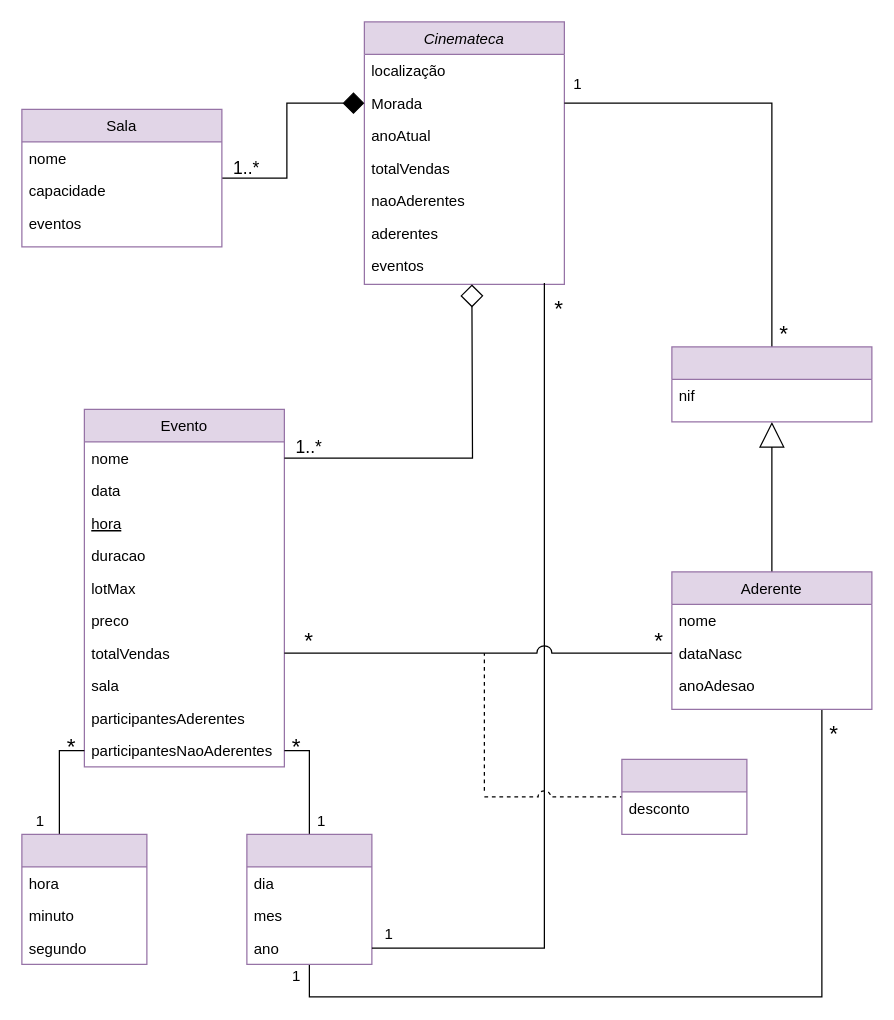
Image size: 894x1020. Some labels were removed from this diagram. The shapes that lost their labels are listed below. From the top down, each one's box as (x1, y1, x2, y2) in pixels, then its label:
(671, 346, 872, 422): Utilizador
(21, 833, 147, 964): Time
(246, 833, 372, 964): Date
